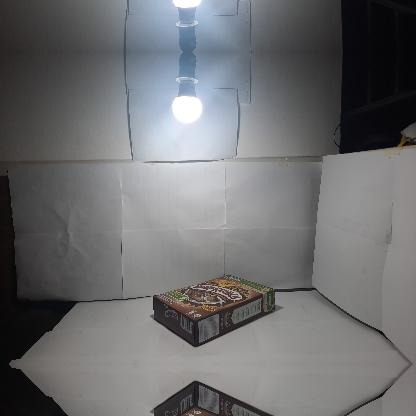Koko-Krunch: (152, 274, 275, 346), (152, 382, 276, 415)
